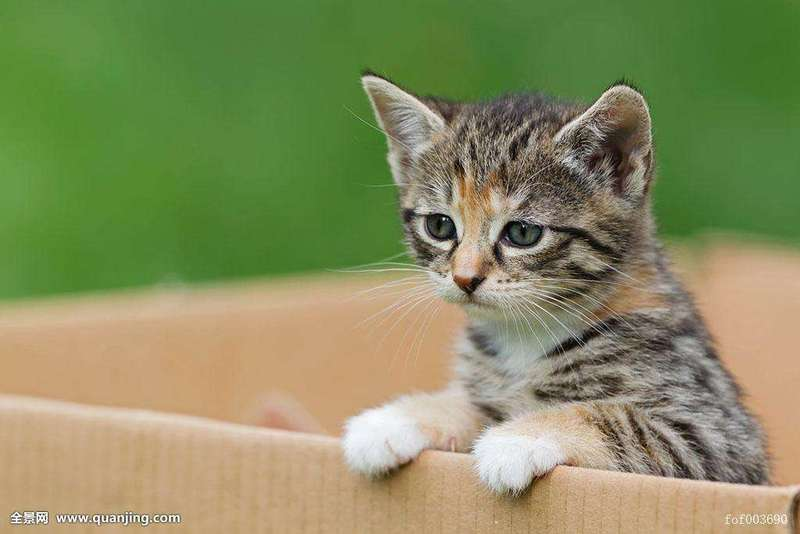cat: (352, 65, 670, 318)
